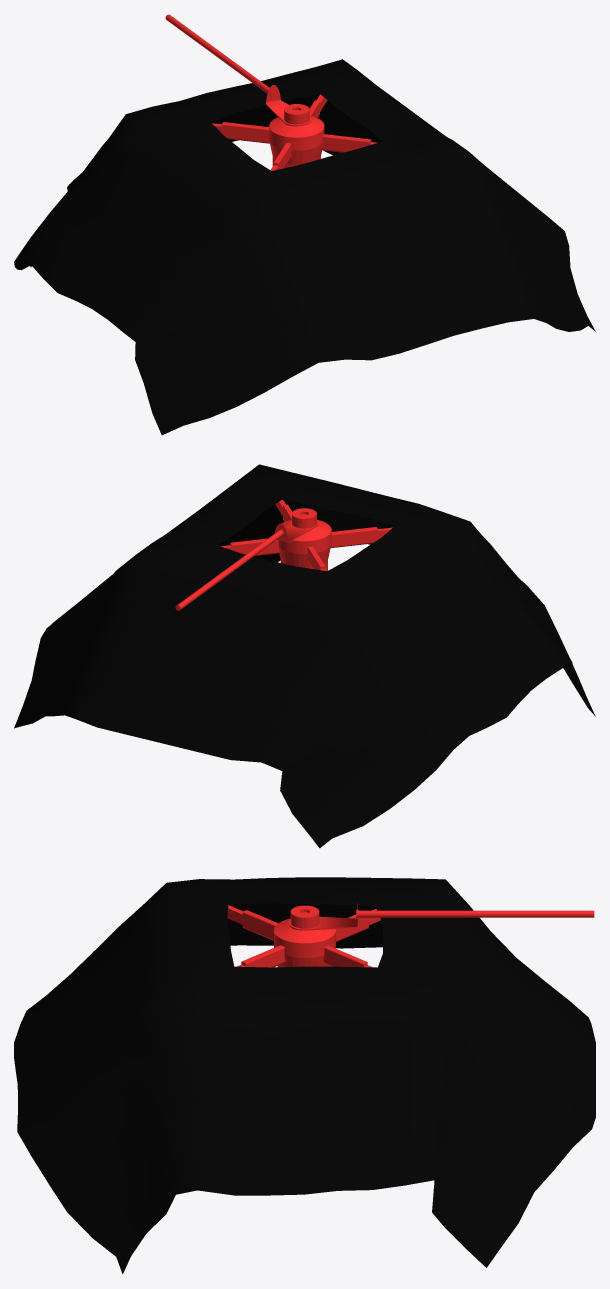
The model's file is Light.FBX.
The picture shows the model from 3 angles, top to bottom: view 1: azimuth 30°, elevation 25°; view 2: azimuth 150°, elevation 25°; view 3: azimuth 270°, elevation 25°; orthographic projection. The views are drawn at different scales.
Visible parts, largest first — view 1: Plane001, LightSocket, SupportPipe, Loft003, Loft001; view 2: Plane001, LightSocket, SupportPipe, Loft002, Loft004; view 3: Plane001, LightSocket, SupportPipe, Loft002, Loft001, Loft004, MountingRing.
Part boxes in pixels (<box>): Plane001: <box>14,59,595,435</box>; LightSocket: <box>269,104,324,167</box>; SupportPipe: <box>165,14,277,98</box>; Loft003: <box>212,122,269,143</box>; Loft001: <box>321,134,377,152</box>; Plane001: <box>14,464,595,848</box>; LightSocket: <box>278,508,331,570</box>; SupportPipe: <box>175,529,284,610</box>; Loft002: <box>330,527,392,547</box>; Loft004: <box>221,538,279,555</box>; Plane001: <box>14,877,595,1273</box>; LightSocket: <box>274,905,335,967</box>; SupportPipe: <box>356,909,594,918</box>; Loft002: <box>227,905,277,940</box>; Loft001: <box>237,945,285,967</box>; Loft004: <box>323,945,372,967</box>; MountingRing: <box>288,903,357,930</box>.
Bounding box in the file's own units: 50.07 × 23.95 × 50.24.
